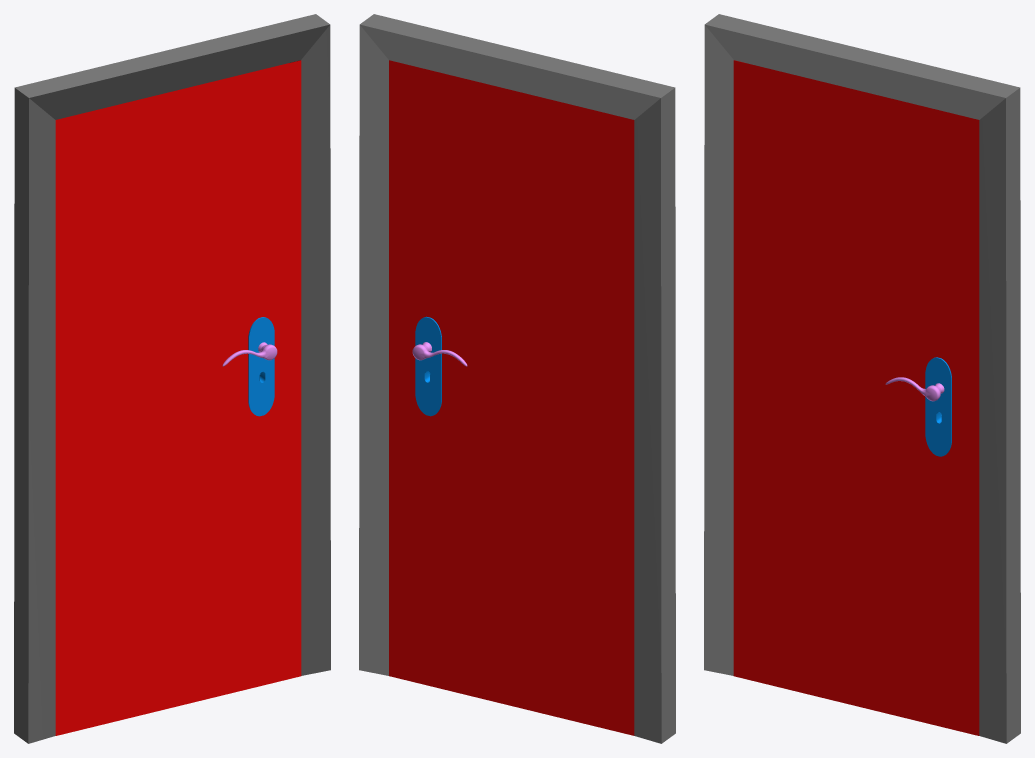
File: A_AH_Door_005.fbx
3 views of the same model, side by side, from view 1: azimuth 30°, elevation 25°; view 2: azimuth 150°, elevation 25°; view 3: azimuth 330°, elevation 25° (orthographic).
Parts seen in each view (by area): view 1: Porte, encadrement; view 2: Porte, encadrement; view 3: Porte, encadrement.
Part boxes in pixels (x1,y1,x2,y2): Porte: (55,60,301,735); encadrement: (14,14,330,743); Porte: (389,60,634,735); encadrement: (359,14,675,743); Porte: (733,60,979,735); encadrement: (704,14,1020,743).
Bounding box in the file's own units: 111 × 226 × 19.13.
